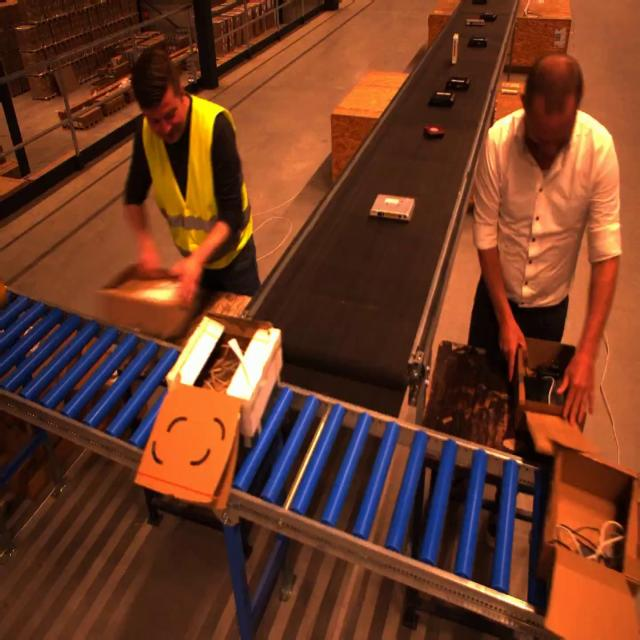box: (133, 315, 281, 513), (535, 445, 640, 638), (97, 273, 257, 359), (516, 338, 585, 424)
product: (368, 174, 417, 234), (417, 118, 449, 148), (443, 39, 467, 70), (428, 91, 456, 107), (445, 76, 470, 91), (500, 82, 521, 95), (468, 37, 488, 47), (479, 12, 498, 21)
